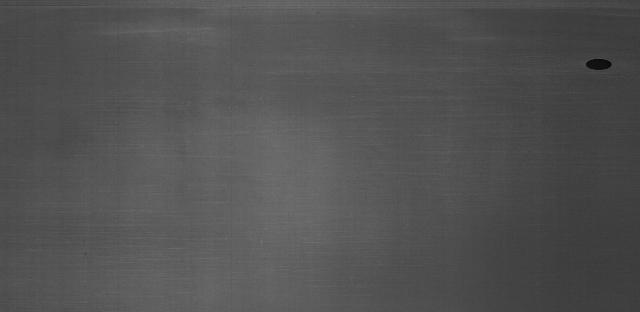punching_hole: (582, 56, 617, 74)
